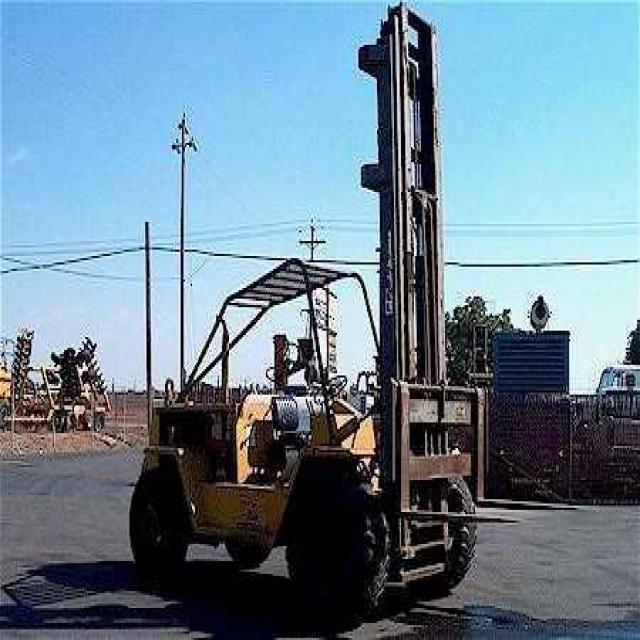forklift: (117, 0, 516, 636)
